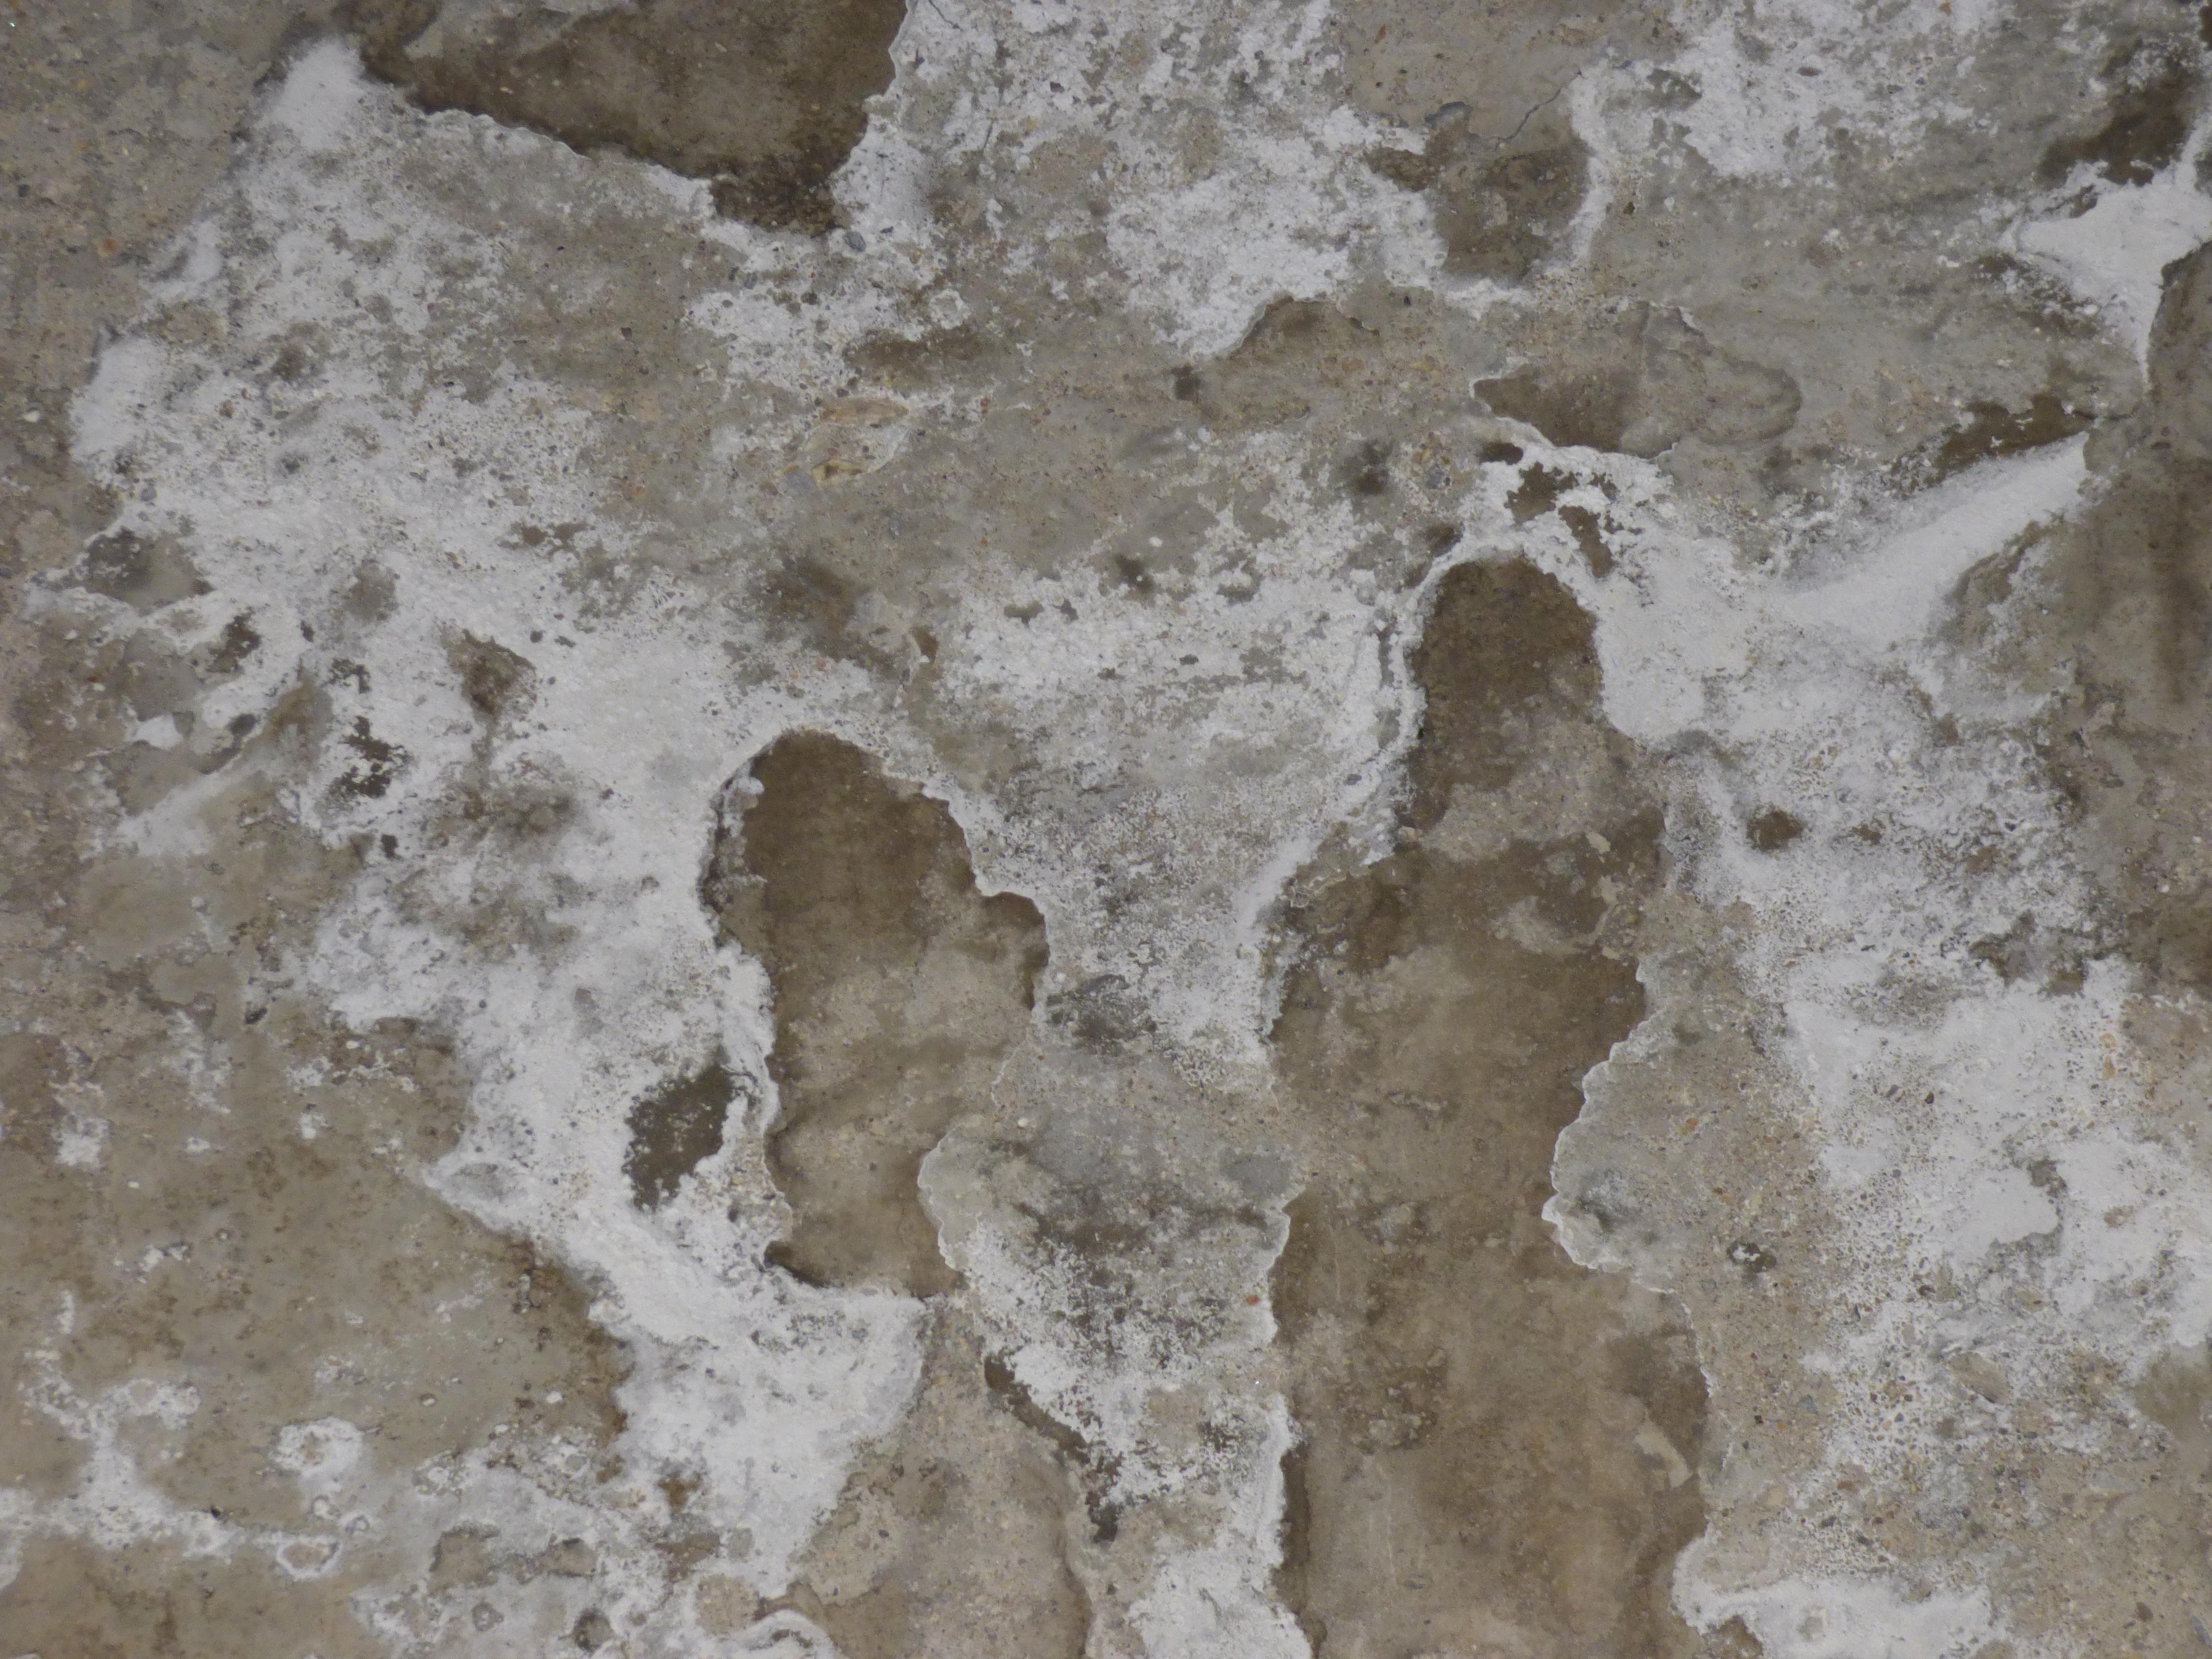corrosion: (3, 7, 1482, 1659), (1484, 416, 2210, 1659), (1487, 0, 2212, 403)
